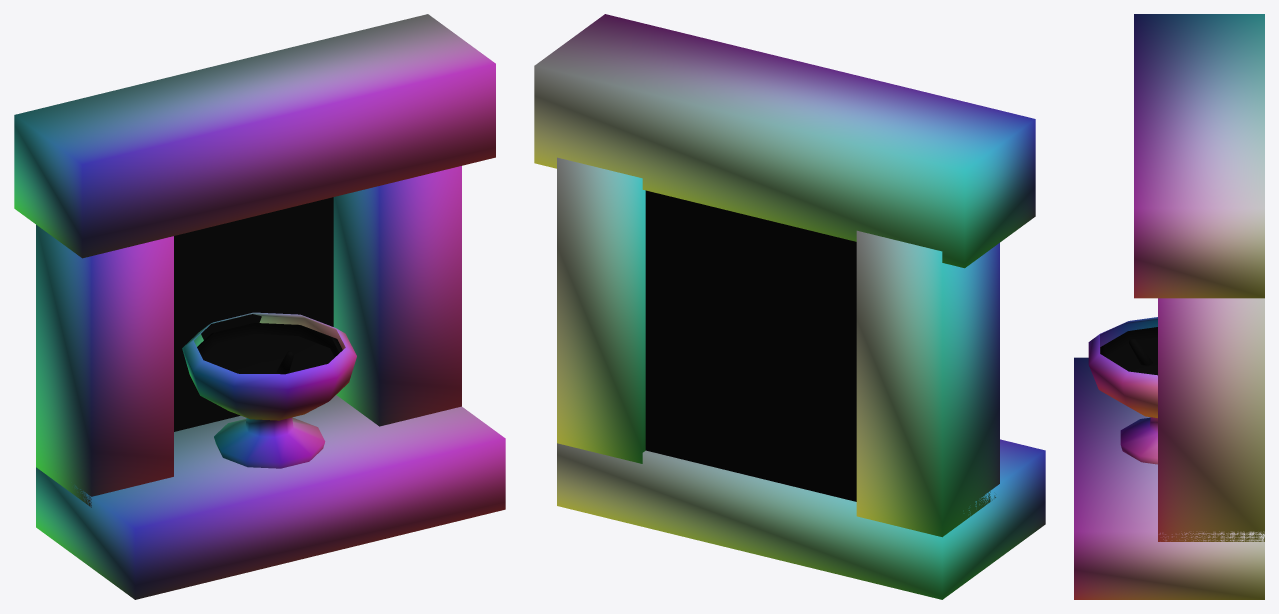
The model's file is SM_Pit_NicheLamp.fbx.
3 views of the same model, side by side, from view 1: azimuth 30°, elevation 25°; view 2: azimuth 150°, elevation 25°; view 3: azimuth 270°, elevation 25° (orthographic). The views are drawn at different scales.
Parts seen in each view (by area): view 1: SM_Pit_NicheLamp; view 2: SM_Pit_NicheLamp; view 3: SM_Pit_NicheLamp.
Part boxes in pixels (left/top/right/bottom): SM_Pit_NicheLamp: left=14, top=14, right=505, bottom=599; SM_Pit_NicheLamp: left=534, top=14, right=1045, bottom=599; SM_Pit_NicheLamp: left=1074, top=14, right=1264, bottom=599.
Size of the model in its own units: 0.5744 by 0.5544 by 0.2384.
